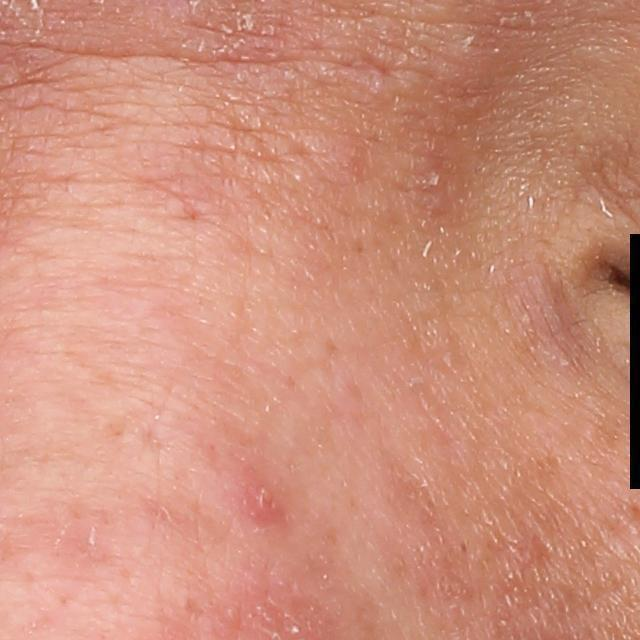papule: (235, 468, 291, 531)
